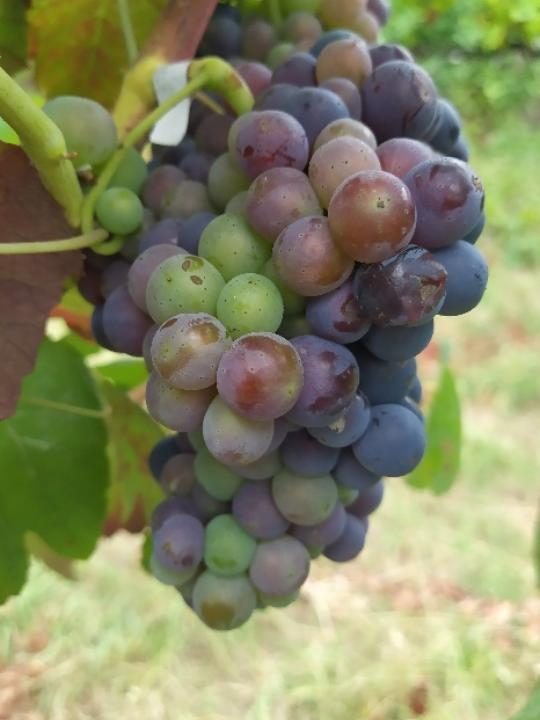grape: (96, 35, 495, 635)
